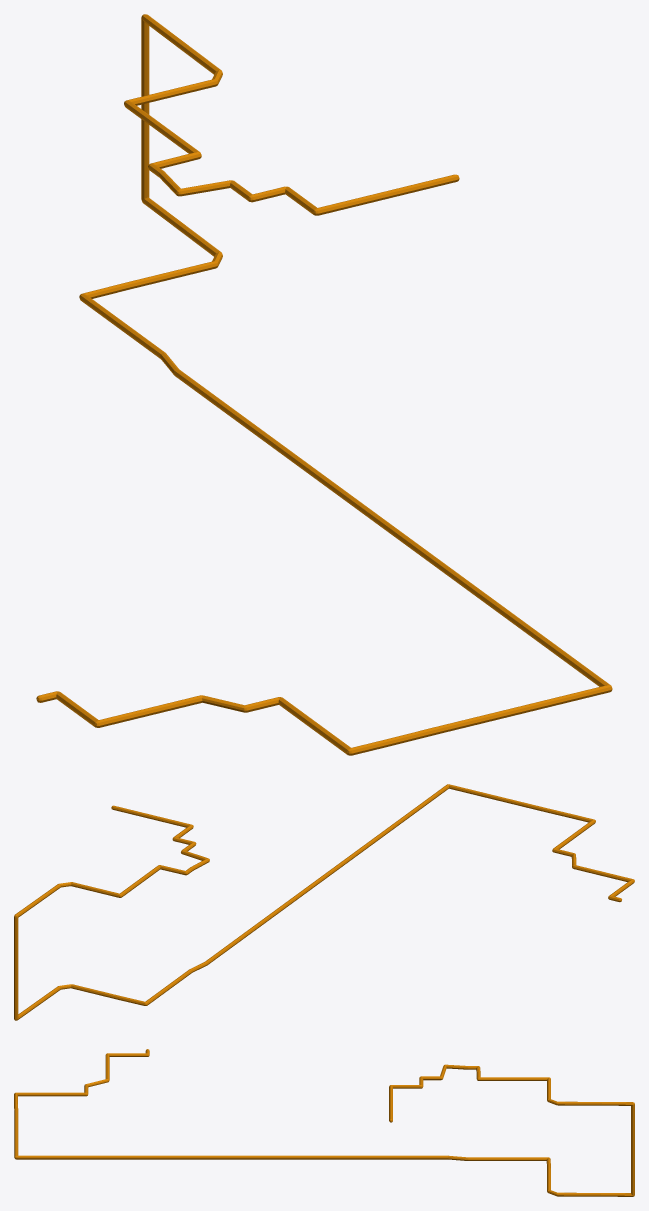
3 renders of one model, top to bottom at view 1: azimuth 30°, elevation 25°; view 2: azimuth 150°, elevation 25°; view 3: azimuth 270°, elevation 25°, orthographic. The views are drawn at different scales.
Size of the model in its own units: 1914 by 520 by 3092.
